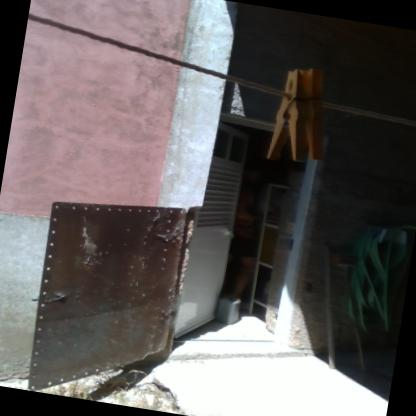semi: (166, 104, 338, 365)
